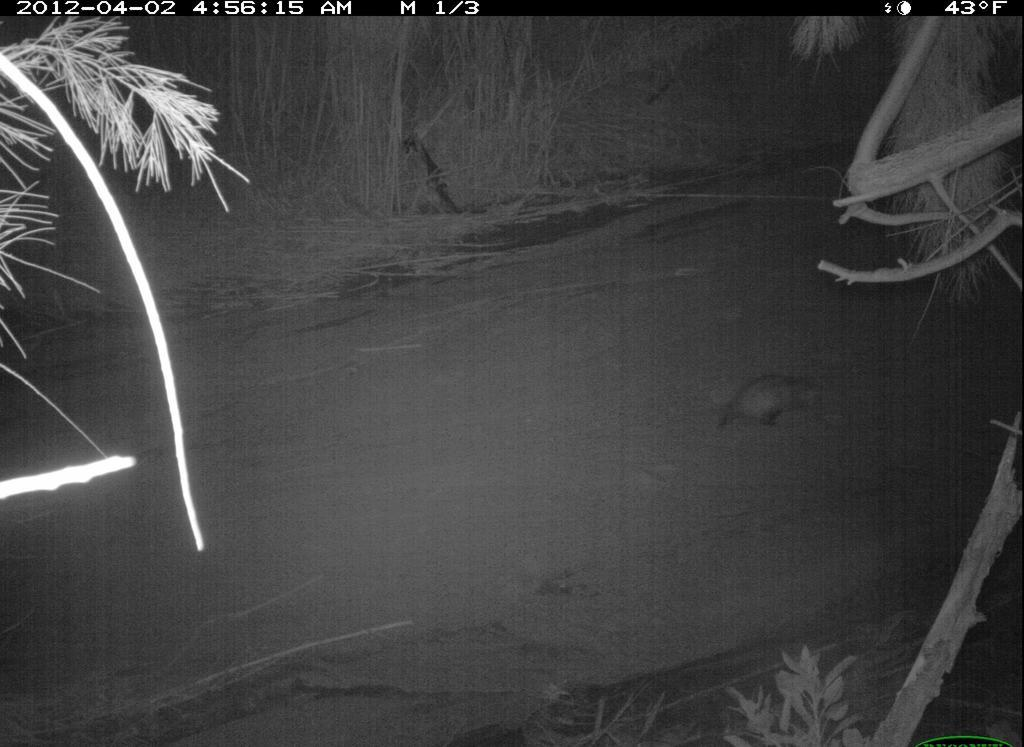opossum: (684, 346, 840, 455)
